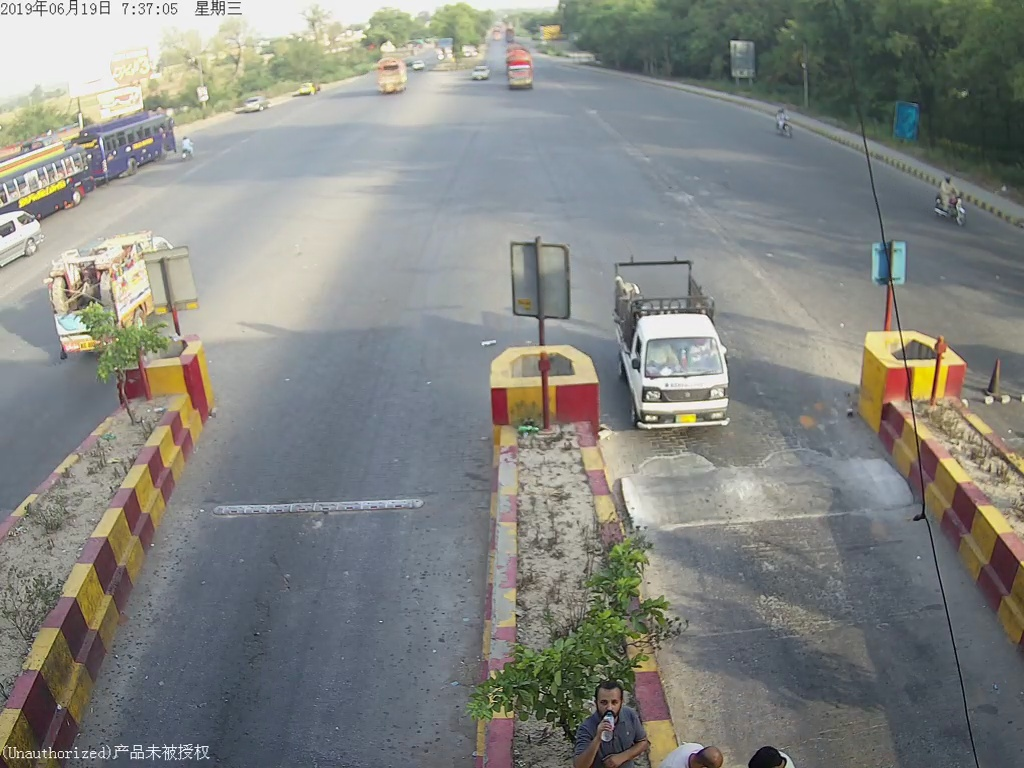Cat-1: (612, 254, 740, 432)
